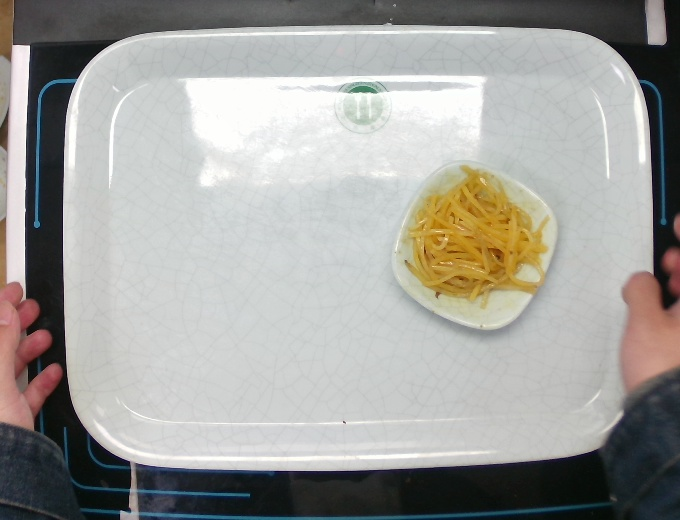JYsf-Si_Fang_Die: (387, 159, 560, 332)
